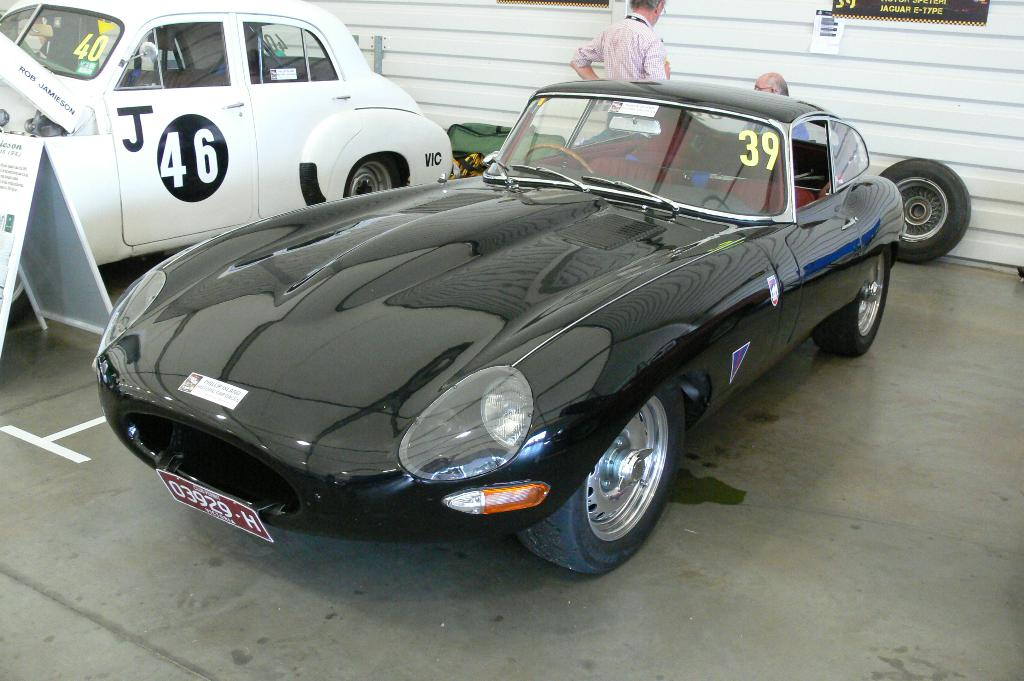Person: (569, 0, 670, 79), (738, 72, 808, 140)
